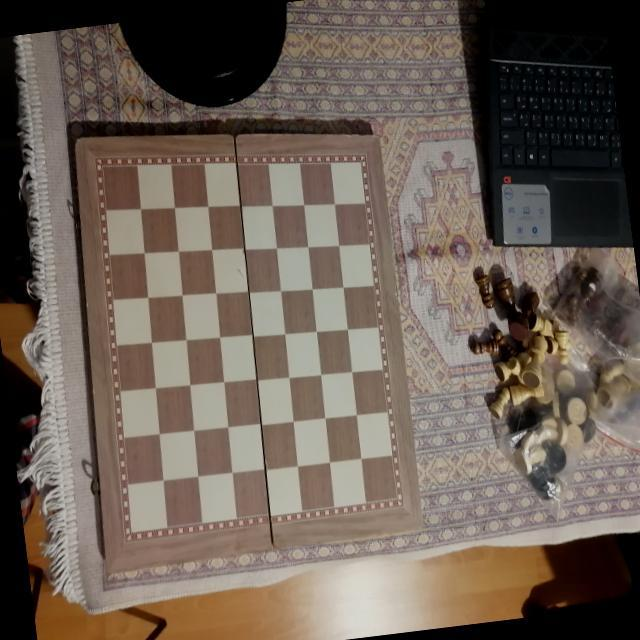corners: (92, 562, 116, 584), (410, 514, 431, 531), (369, 129, 384, 152), (66, 134, 85, 152)
